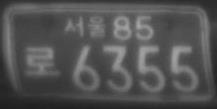3: (103, 44, 133, 94)
5: (136, 43, 167, 94), (169, 43, 200, 94), (134, 13, 155, 42)
6: (70, 43, 102, 93)
8: (111, 14, 133, 42)
로: (21, 44, 60, 78)
서울_O: (63, 13, 109, 39)
